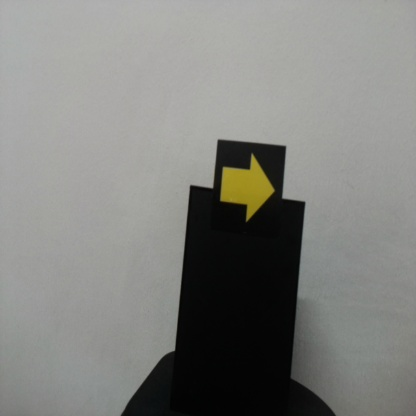id_3: (215, 140, 284, 235)
